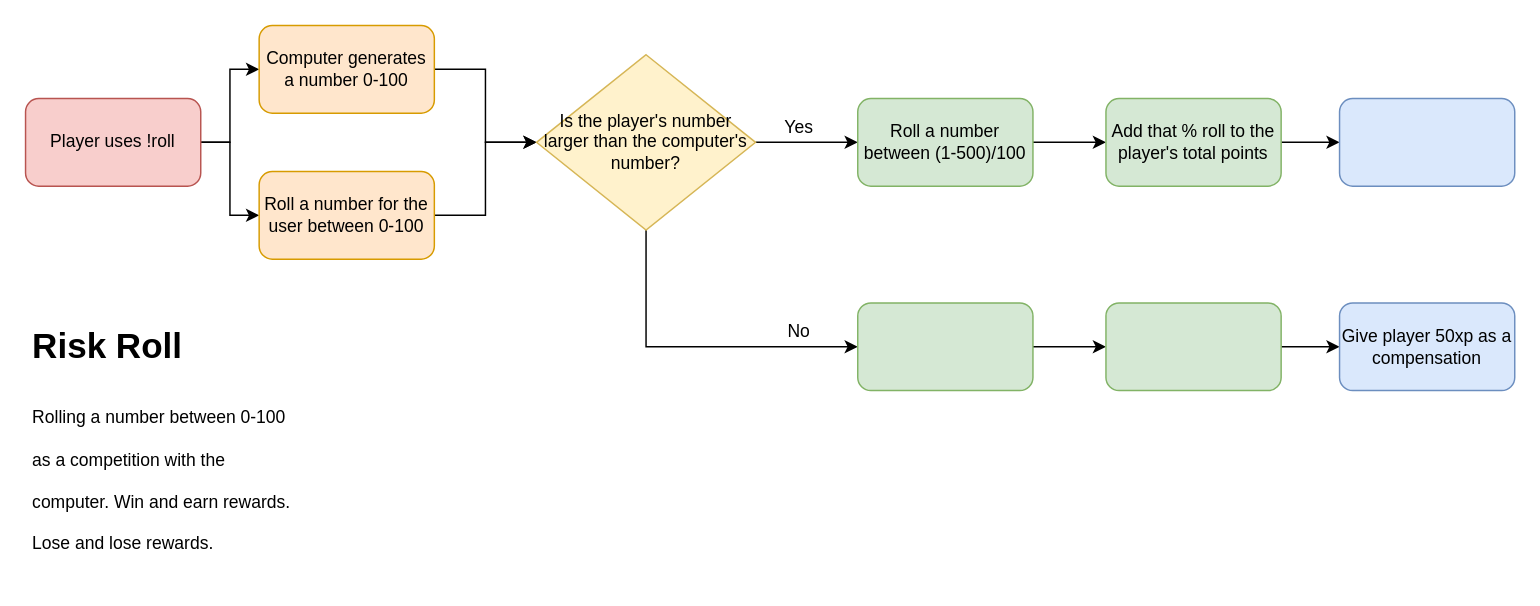
Some shapes in this 1540 by 606 pixel diagram are drawn without their labels. The shapes that lost their labels are listed below. From the top down, each one's centre as x and y in pixels, then its label:
At pixel 1426 141: "Give player 100xp as a bonus".
At pixel 944 346: "Roll a number between (1-1000)/100".
At pixel 1192 346: "Subtract that % roll to the player's total points".
